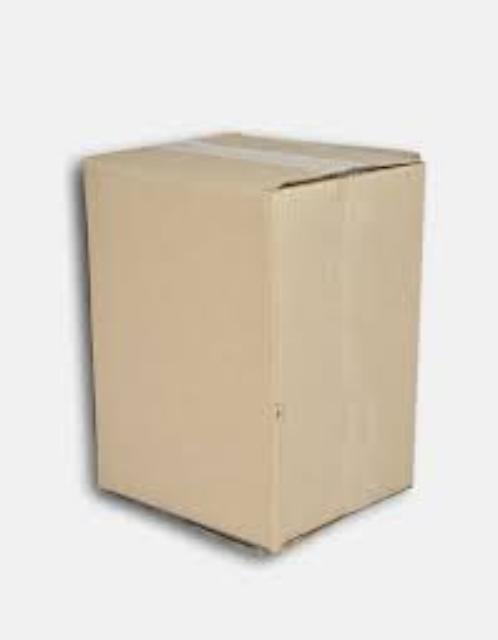cardboard paper: (81, 131, 418, 547)
